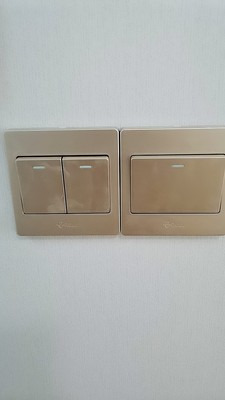switch: (130, 149, 225, 218), (11, 152, 70, 218), (57, 153, 115, 218)
